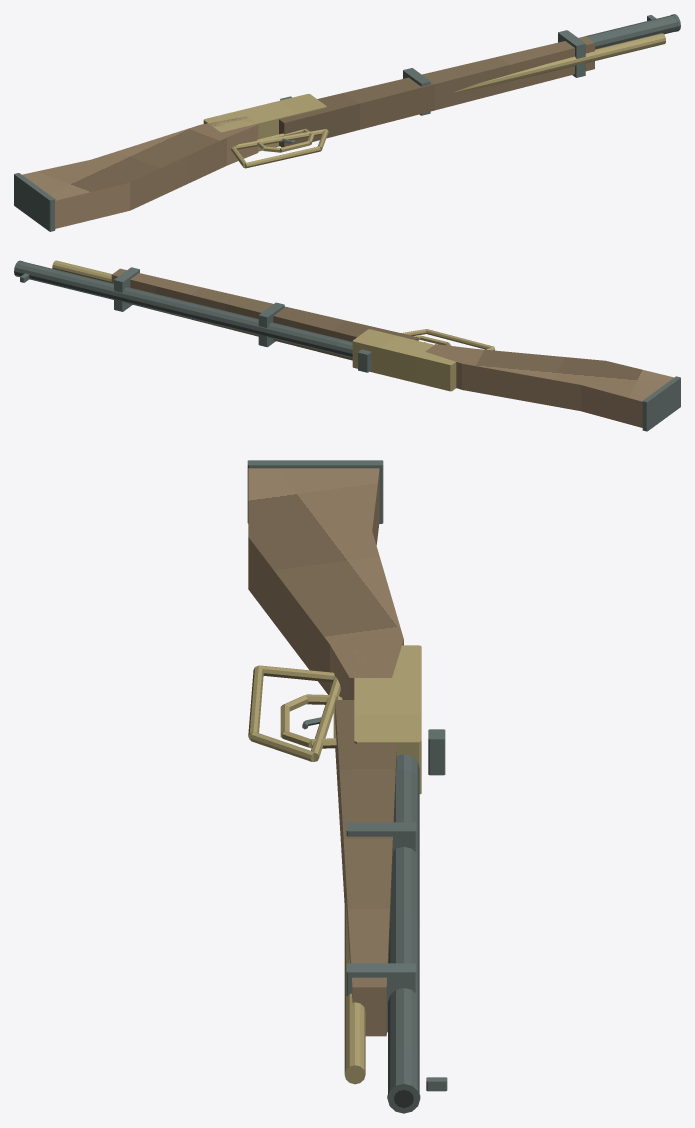
Rendered from weapon-henry.glb.
3 renders of one model, top to bottom at view 1: azimuth 30°, elevation 25°; view 2: azimuth 150°, elevation 25°; view 3: azimuth 270°, elevation 25°, orthographic. The views are drawn at different scales.
Visible parts, largest first — view 1: weapon-henry/shaped-solid-butt, weapon-henry/tapered-full-depth-forend, weapon-henry/central-receiver, weapon-henry/under-barrel-long-tube, weapon-henry/butt-end-plate, weapon-henry/long-barrel, weapon-henry/stock-band-1, weapon-henry/open-lever-loop-4, weapon-henry/open-lever-loop-2; view 2: weapon-henry/shaped-solid-butt, weapon-henry/long-barrel, weapon-henry/tapered-full-depth-forend, weapon-henry/central-receiver, weapon-henry/butt-end-plate, weapon-henry/under-barrel-long-tube, weapon-henry/stock-band-1, weapon-henry/stock-band-0, weapon-henry/open-lever-loop-2, weapon-henry/rear-sight; view 3: weapon-henry/shaped-solid-butt, weapon-henry/tapered-full-depth-forend, weapon-henry/long-barrel, weapon-henry/central-receiver, weapon-henry/under-barrel-long-tube, weapon-henry/butt-end-plate, weapon-henry/stock-band-1, weapon-henry/stock-band-0.
Part boxes in pixels (x1,y1,x2,y2): weapon-henry/shaped-solid-butt: (22, 116, 258, 228); weapon-henry/tapered-full-depth-forend: (279, 36, 594, 147); weapon-henry/central-receiver: (203, 93, 326, 151); weapon-henry/under-barrel-long-tube: (452, 33, 665, 92); weapon-henry/butt-end-plate: (14, 173, 55, 231); weapon-henry/long-barrel: (585, 15, 677, 49); weapon-henry/stock-band-1: (558, 30, 585, 77); weapon-henry/open-lever-loop-4: (235, 129, 325, 149); weapon-henry/open-lever-loop-2: (245, 146, 320, 168); weapon-henry/shaped-solid-butt: (425, 344, 673, 427); weapon-henry/long-barrel: (17, 261, 352, 357); weapon-henry/tapered-full-depth-forend: (111, 268, 418, 360); weapon-henry/central-receiver: (352, 329, 456, 391); weapon-henry/butt-end-plate: (642, 376, 680, 431); weapon-henry/under-barrel-long-tube: (52, 260, 111, 282); weapon-henry/stock-band-1: (114, 267, 139, 311); weapon-henry/stock-band-0: (258, 302, 284, 347); weapon-henry/open-lever-loop-2: (426, 329, 494, 349); weapon-henry/rear-sight: (358, 349, 371, 372); weapon-henry/shaped-solid-butt: (248, 468, 403, 699); weapon-henry/tapered-full-depth-forend: (335, 700, 396, 1036); weapon-henry/long-barrel: (388, 754, 419, 1093); weapon-henry/central-receiver: (354, 645, 421, 794); weapon-henry/under-barrel-long-tube: (344, 883, 365, 1084); weapon-henry/butt-end-plate: (247, 460, 383, 523); weapon-henry/stock-band-1: (346, 963, 416, 1032); weapon-henry/stock-band-0: (346, 822, 416, 851).
Size of the model in its own units: 1.09 by 0.05 by 0.1515.
4 materials, 4 textured.
